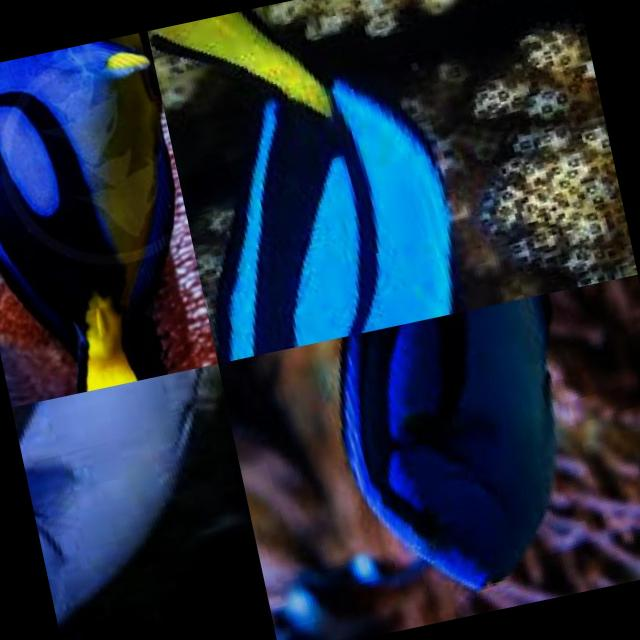BlueTang: (147, 0, 479, 358), (316, 295, 592, 608), (0, 30, 217, 406), (11, 370, 223, 610)
